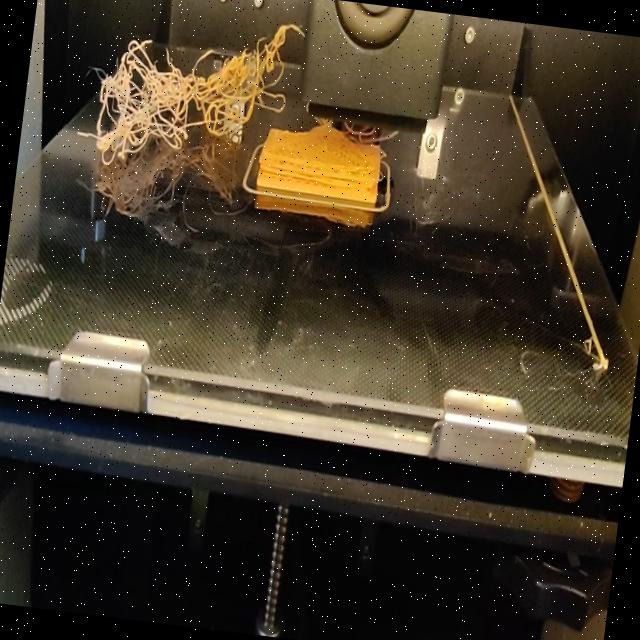spaghetti: (64, 0, 307, 189), (311, 118, 404, 151)
